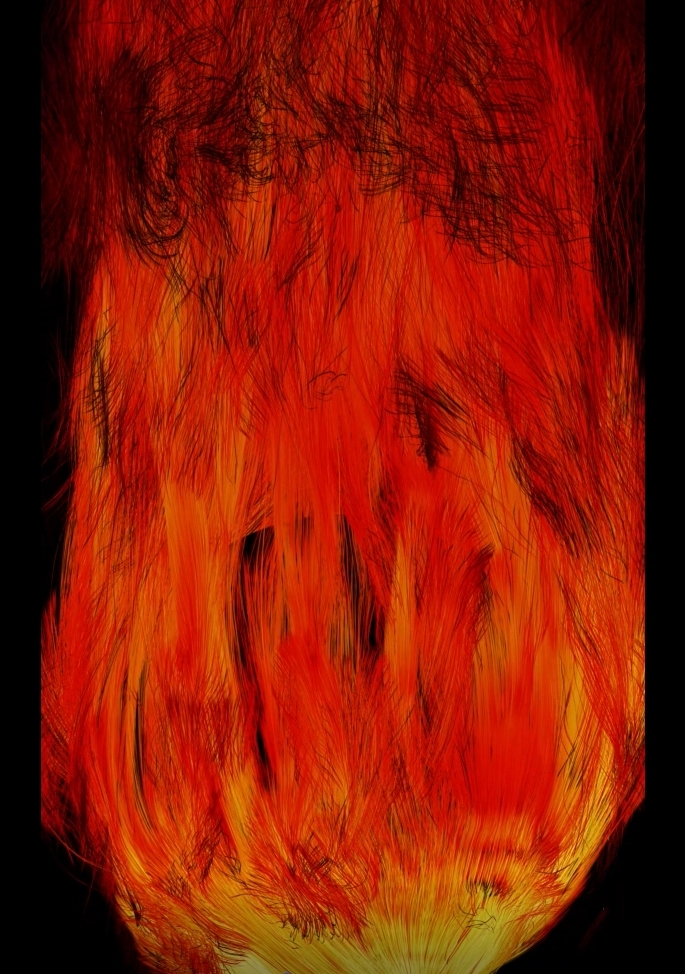flame: (22, 210, 666, 968)
smoke: (37, 6, 660, 223)
